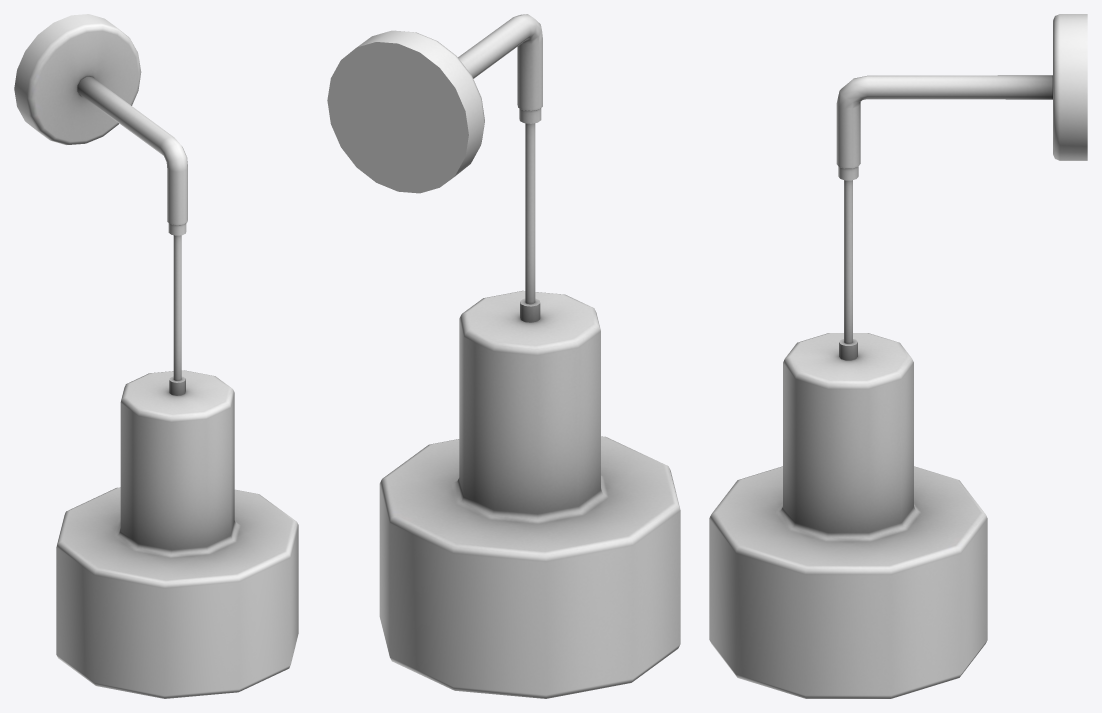
Rendered from wall-lamp-4.glb.
The picture shows the model from 3 angles, left to right: view 1: azimuth 30°, elevation 25°; view 2: azimuth 150°, elevation 25°; view 3: azimuth 270°, elevation 25°; orthographic projection. The views are drawn at different scales.
Parts seen in each view (by area): view 1: Base.001; view 2: Base.001; view 3: Base.001.
Boxes of the visible parts, box(x1,y1,x2,y2) form: Base.001: box(14, 14, 298, 698); Base.001: box(327, 14, 680, 698); Base.001: box(709, 14, 1087, 698).
Bounding box in the file's own units: 0.1823 × 0.4749 × 0.2605.
Materials: 1 (1 with a texture image).
